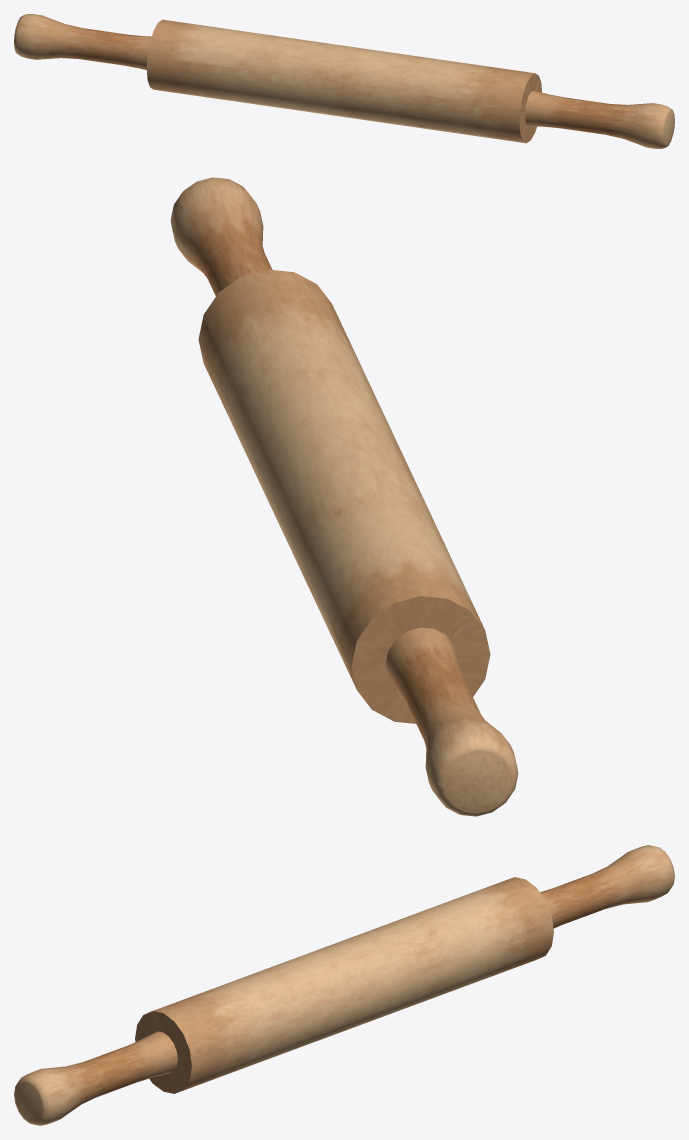
Rendered from Rolling pin.fbx.
3 renders of one model, top to bottom at view 1: azimuth 30°, elevation 25°; view 2: azimuth 150°, elevation 25°; view 3: azimuth 270°, elevation 25°, orthographic. The views are drawn at different scales.
Parts seen in each view (by area): view 1: Rolling Pin.001; view 2: Rolling Pin.001; view 3: Rolling Pin.001.
Part boxes in pixels (bbox=[...]): Rolling Pin.001: bbox=[14, 14, 674, 148]; Rolling Pin.001: bbox=[170, 177, 518, 816]; Rolling Pin.001: bbox=[14, 845, 674, 1125].
Bounding box in the file's own units: 117 × 17.2 × 131.
